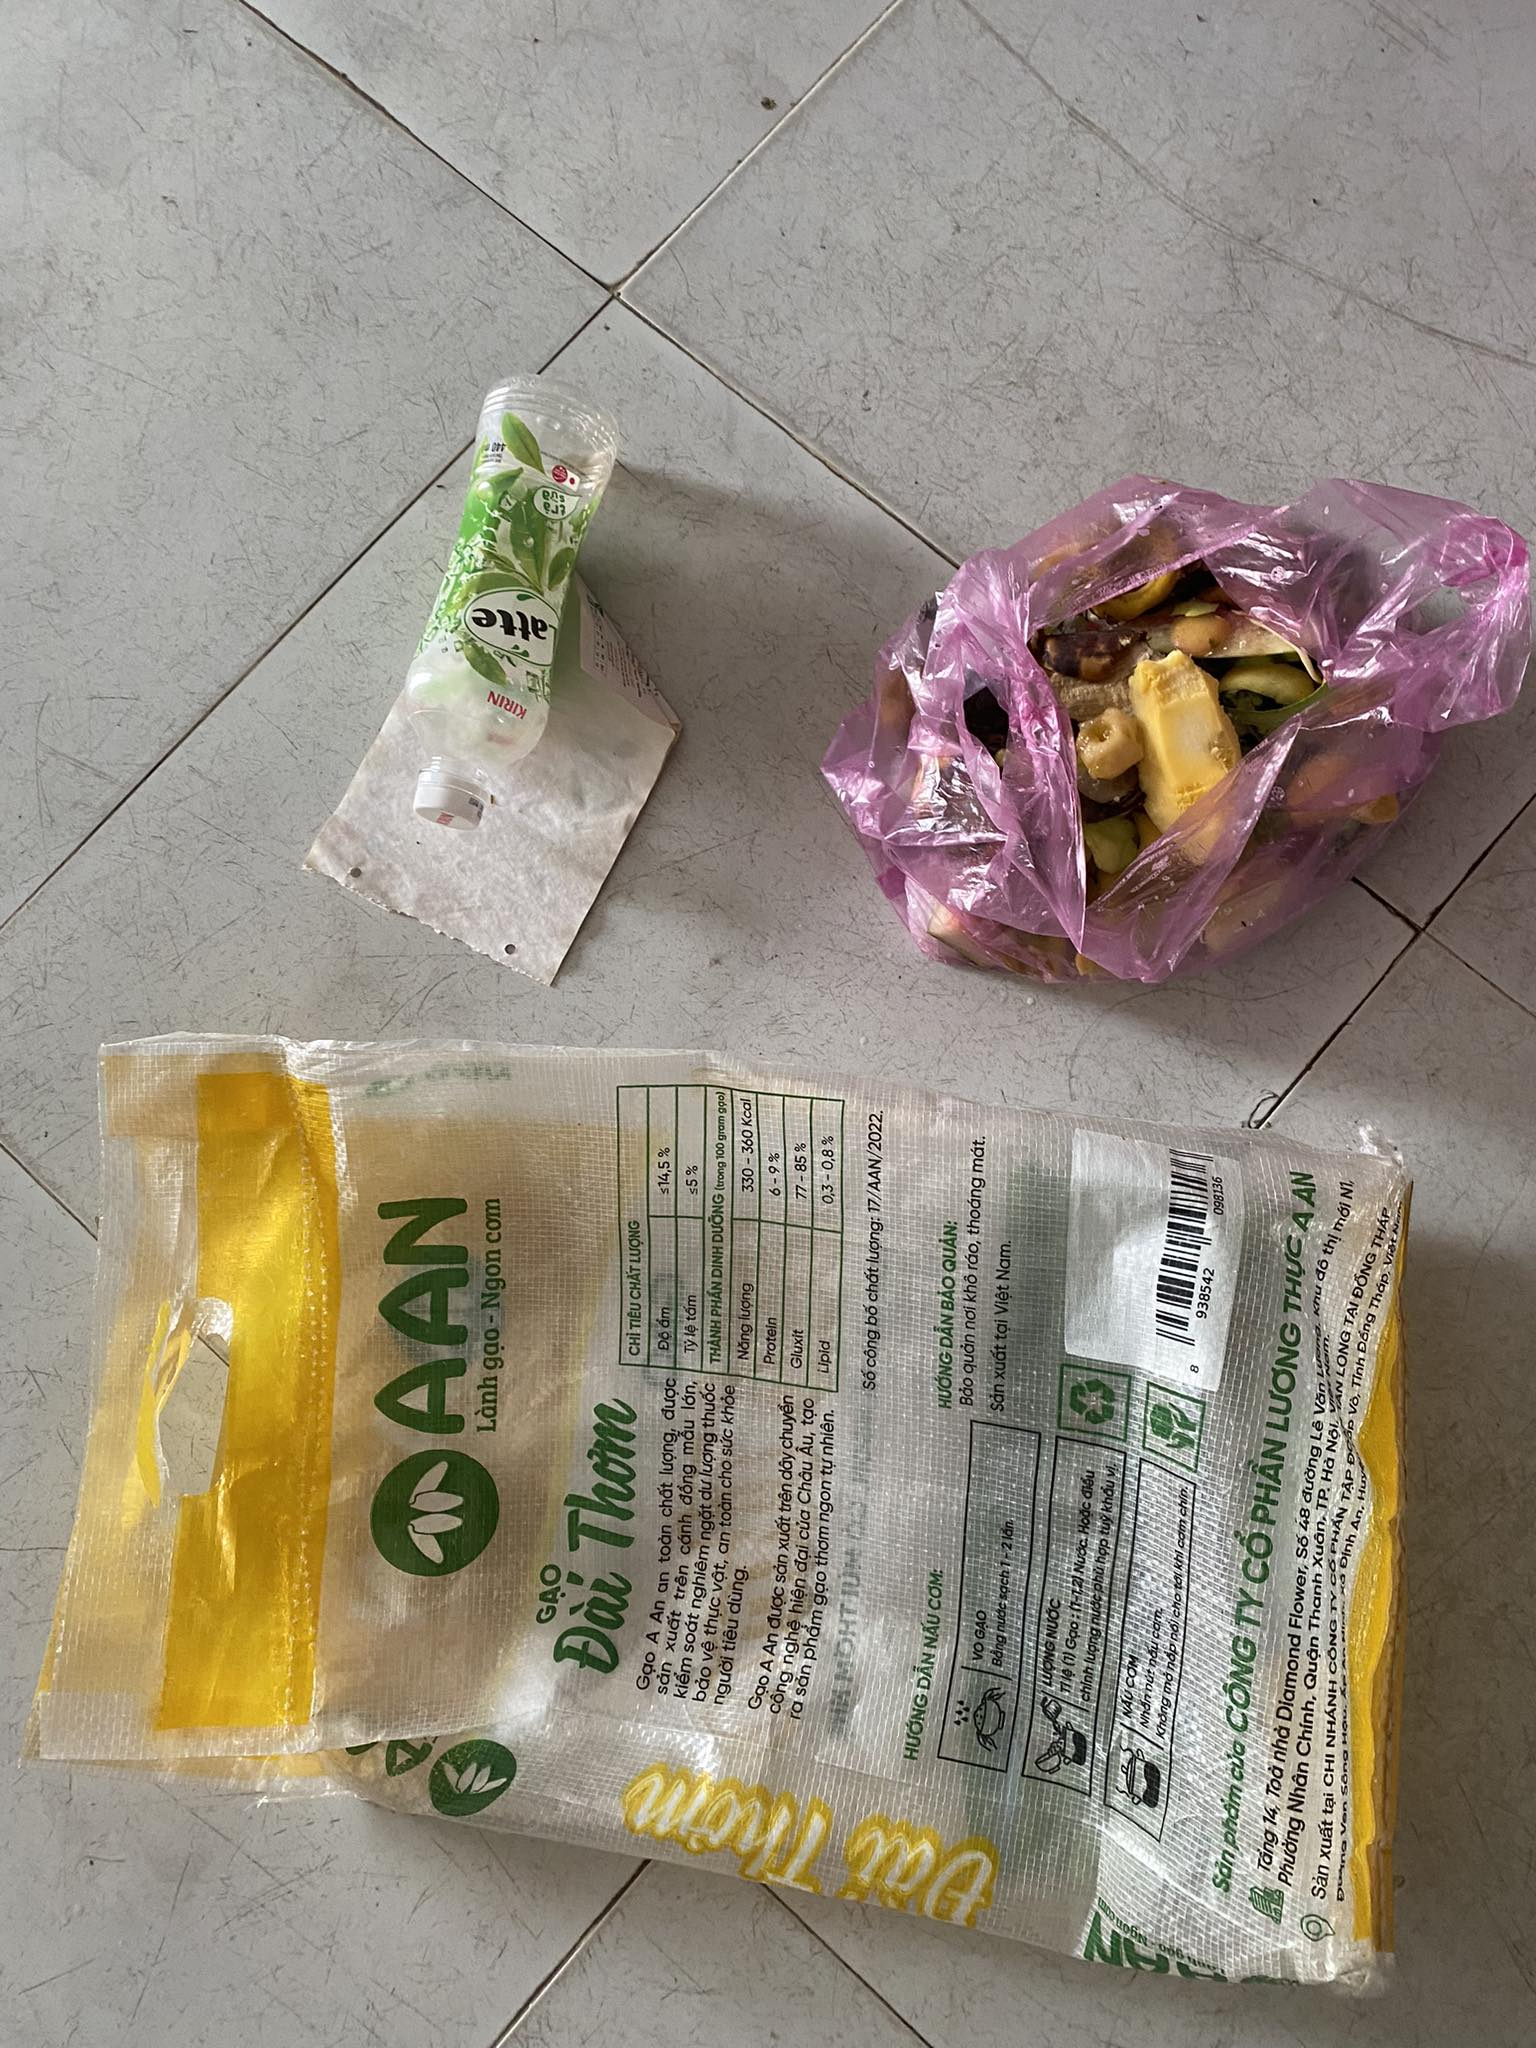food: (967, 582, 1348, 845)
paper: (297, 594, 689, 986)
plastic: (404, 316, 617, 860)
plastic bag: (23, 1020, 1511, 2002), (849, 407, 1515, 1016)
